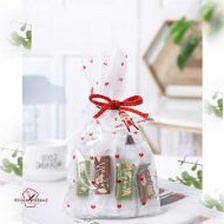snack: (55, 40, 170, 224)
